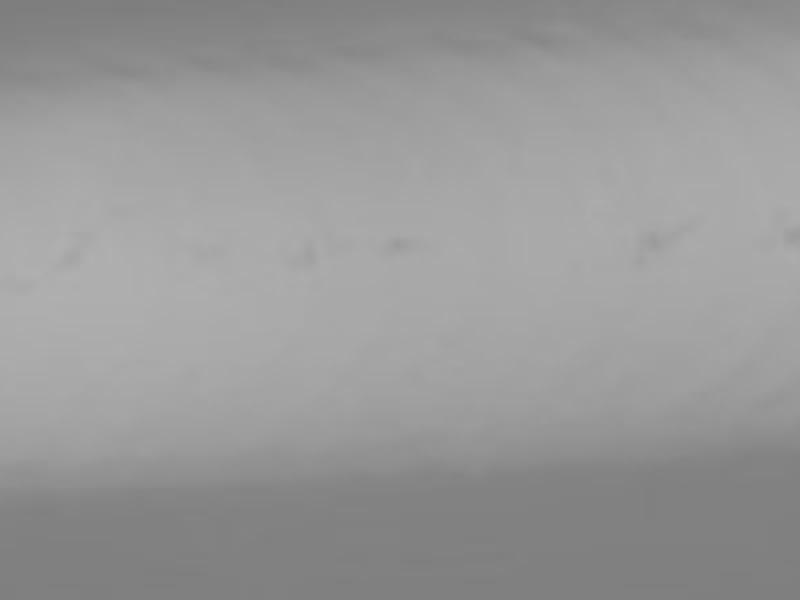defect: (289, 237, 321, 269), (636, 224, 666, 252), (387, 232, 418, 255), (59, 242, 82, 268), (782, 220, 800, 246)
